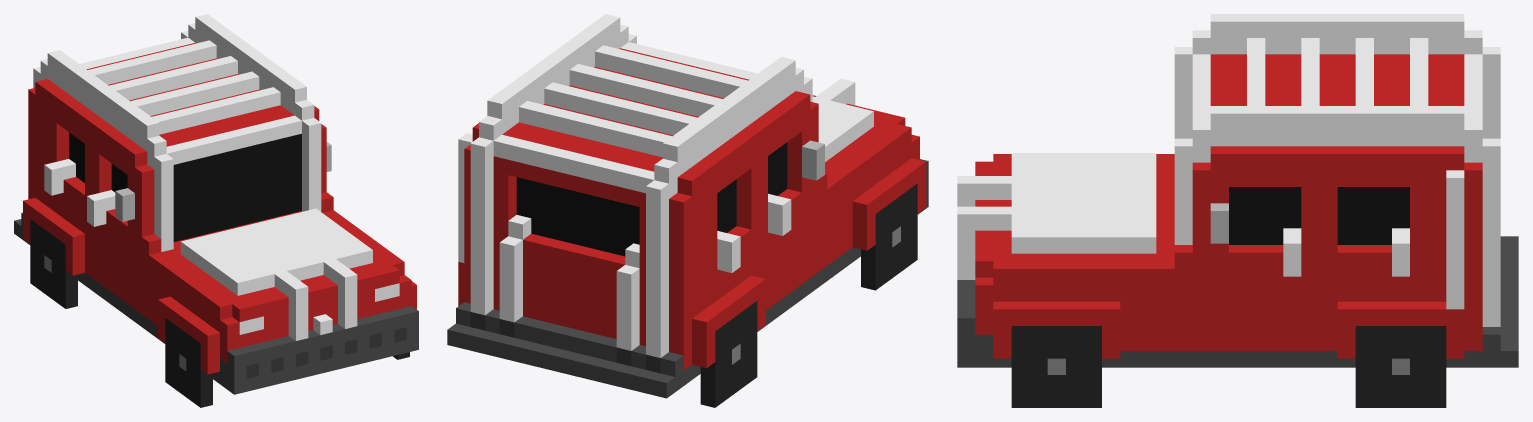
Rendered from car.obj.
The picture shows the model from 3 angles, left to right: view 1: azimuth 30°, elevation 25°; view 2: azimuth 150°, elevation 25°; view 3: azimuth 270°, elevation 25°; orthographic projection. The views are drawn at different scales.
Visible parts, largest first — view 1: Untitled.001; view 2: Untitled.001; view 3: Untitled.001.
Boxes of the visible parts, x1=… form: Untitled.001: x1=14, y1=14, x2=418, y2=407; Untitled.001: x1=447, y1=14, x2=928, y2=407; Untitled.001: x1=957, y1=14, x2=1518, y2=407.
Size of the model in its own units: 1.7 by 1.7 by 3.1.
Materials: 1 (1 with a texture image).
